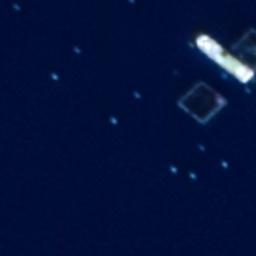square_solid: (175, 79, 231, 126)
